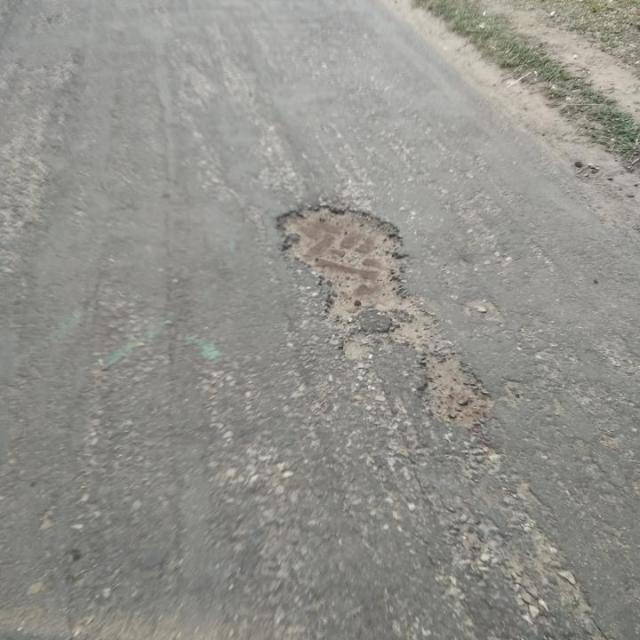pothole: (275, 198, 413, 319), (419, 351, 498, 429)
